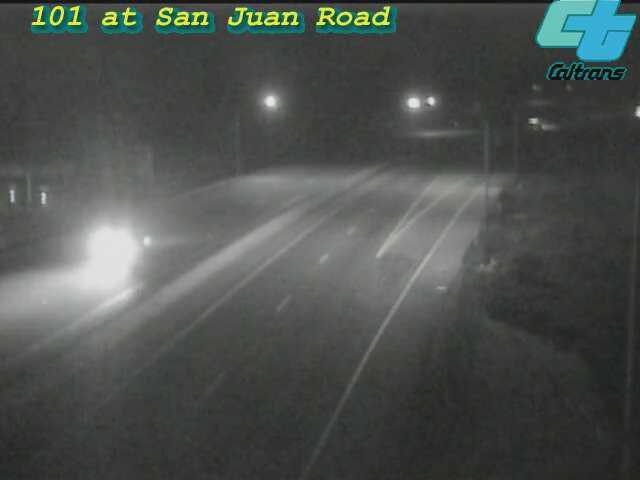vehicle: (61, 211, 141, 291), (519, 99, 569, 149)
